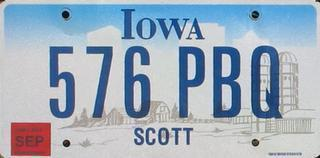placa de veiculo: (4, 1, 317, 151)
